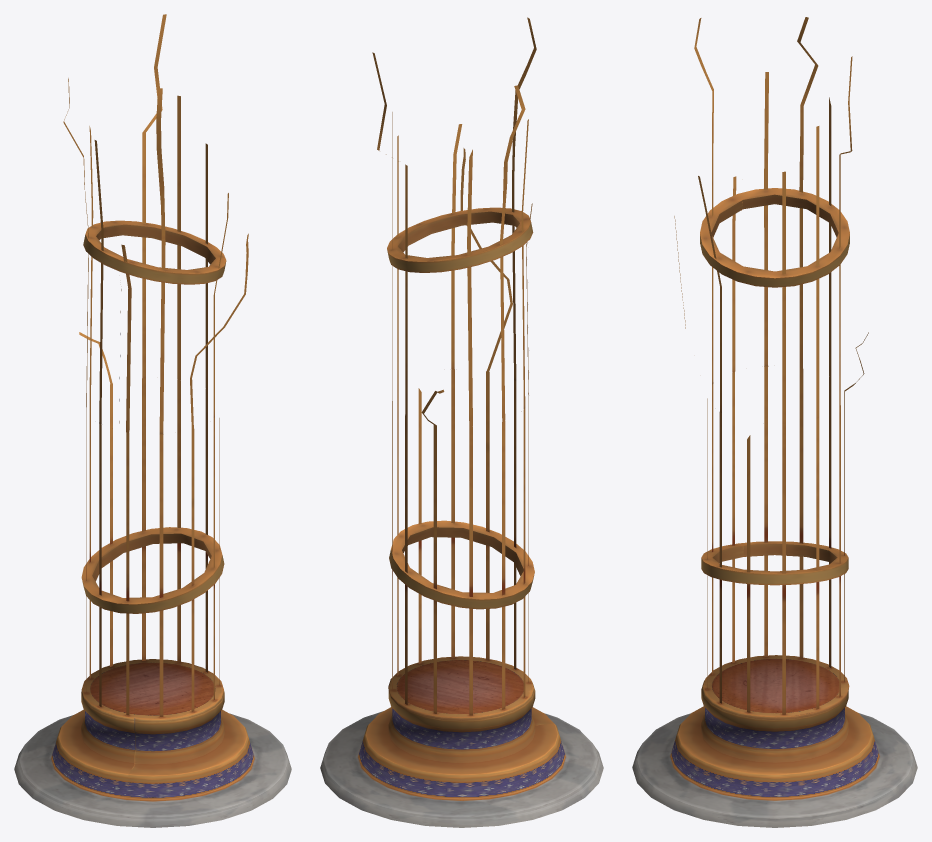
File: SM_Birdcage_Broken.fbx
3 views of the same model, side by side, from view 1: azimuth 30°, elevation 25°; view 2: azimuth 150°, elevation 25°; view 3: azimuth 270°, elevation 25° (orthographic). The views are drawn at different scales.
Visible parts, largest first — view 1: SM_Birdcage_Broken; view 2: SM_Birdcage_Broken; view 3: SM_Birdcage_Broken.
Boxes of the visible parts, x1,y1,x2,y2 form: SM_Birdcage_Broken: (14, 14, 291, 827); SM_Birdcage_Broken: (320, 17, 603, 827); SM_Birdcage_Broken: (632, 17, 917, 827).
Size of the model in its own units: 3.12 by 8.86 by 3.12.
Materials: 1 (1 with a texture image).
